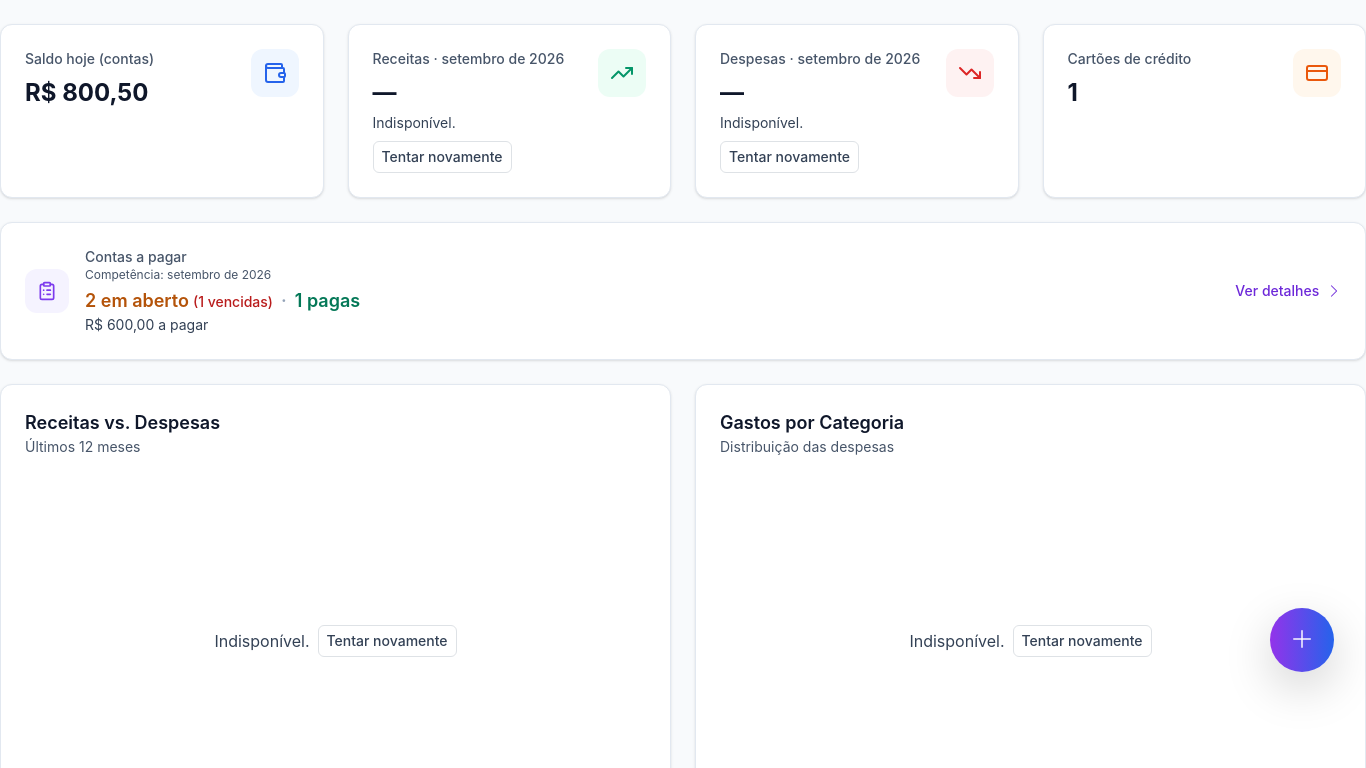
Test: Dashboard › "Tentar novamente" refaz as requisições e recupera os valores
This screenshot has width=1366, height=768.
Click the 1st button "Tentar novamente".
click(442, 157)  # box [372,141,512,173]
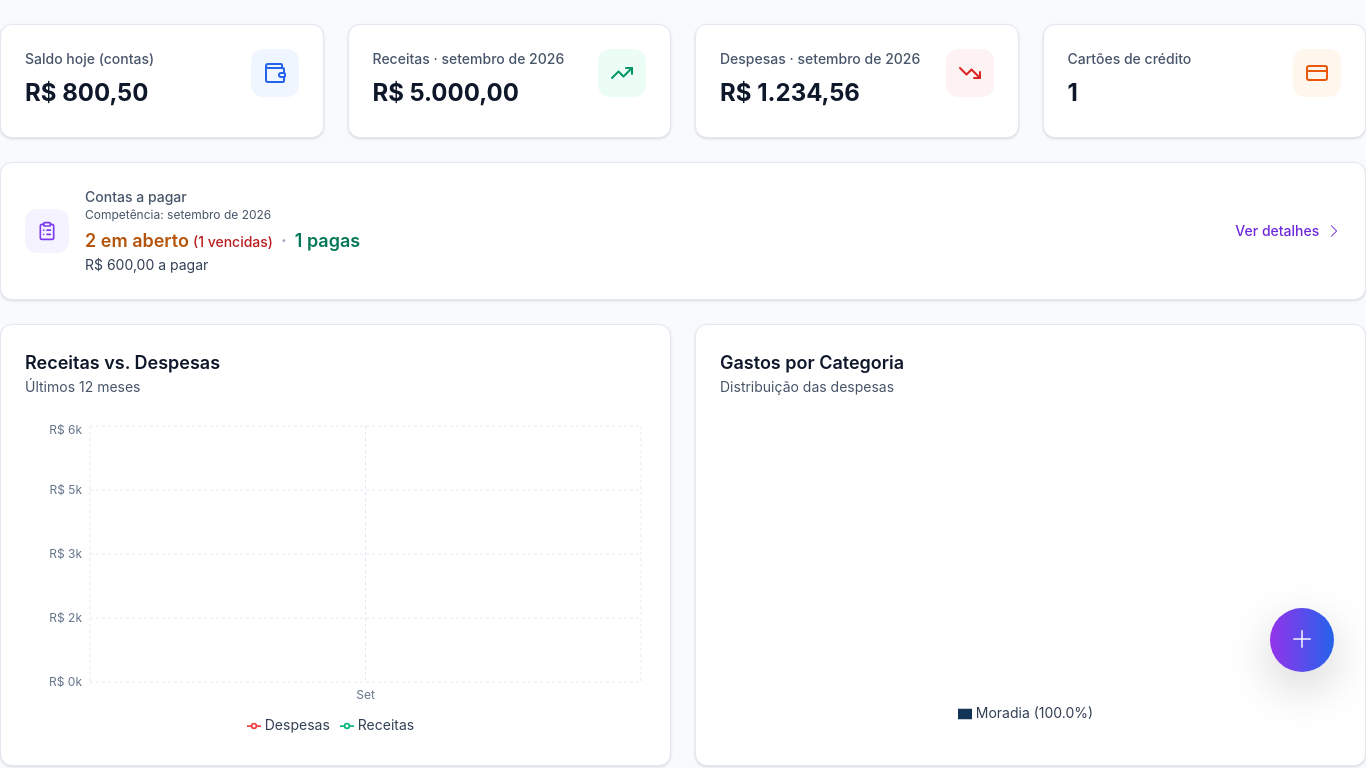
Check: the text "R$ 5.000,00" is shown, box [372,78,519,107]
Check: the text "Indisponível." is gone
